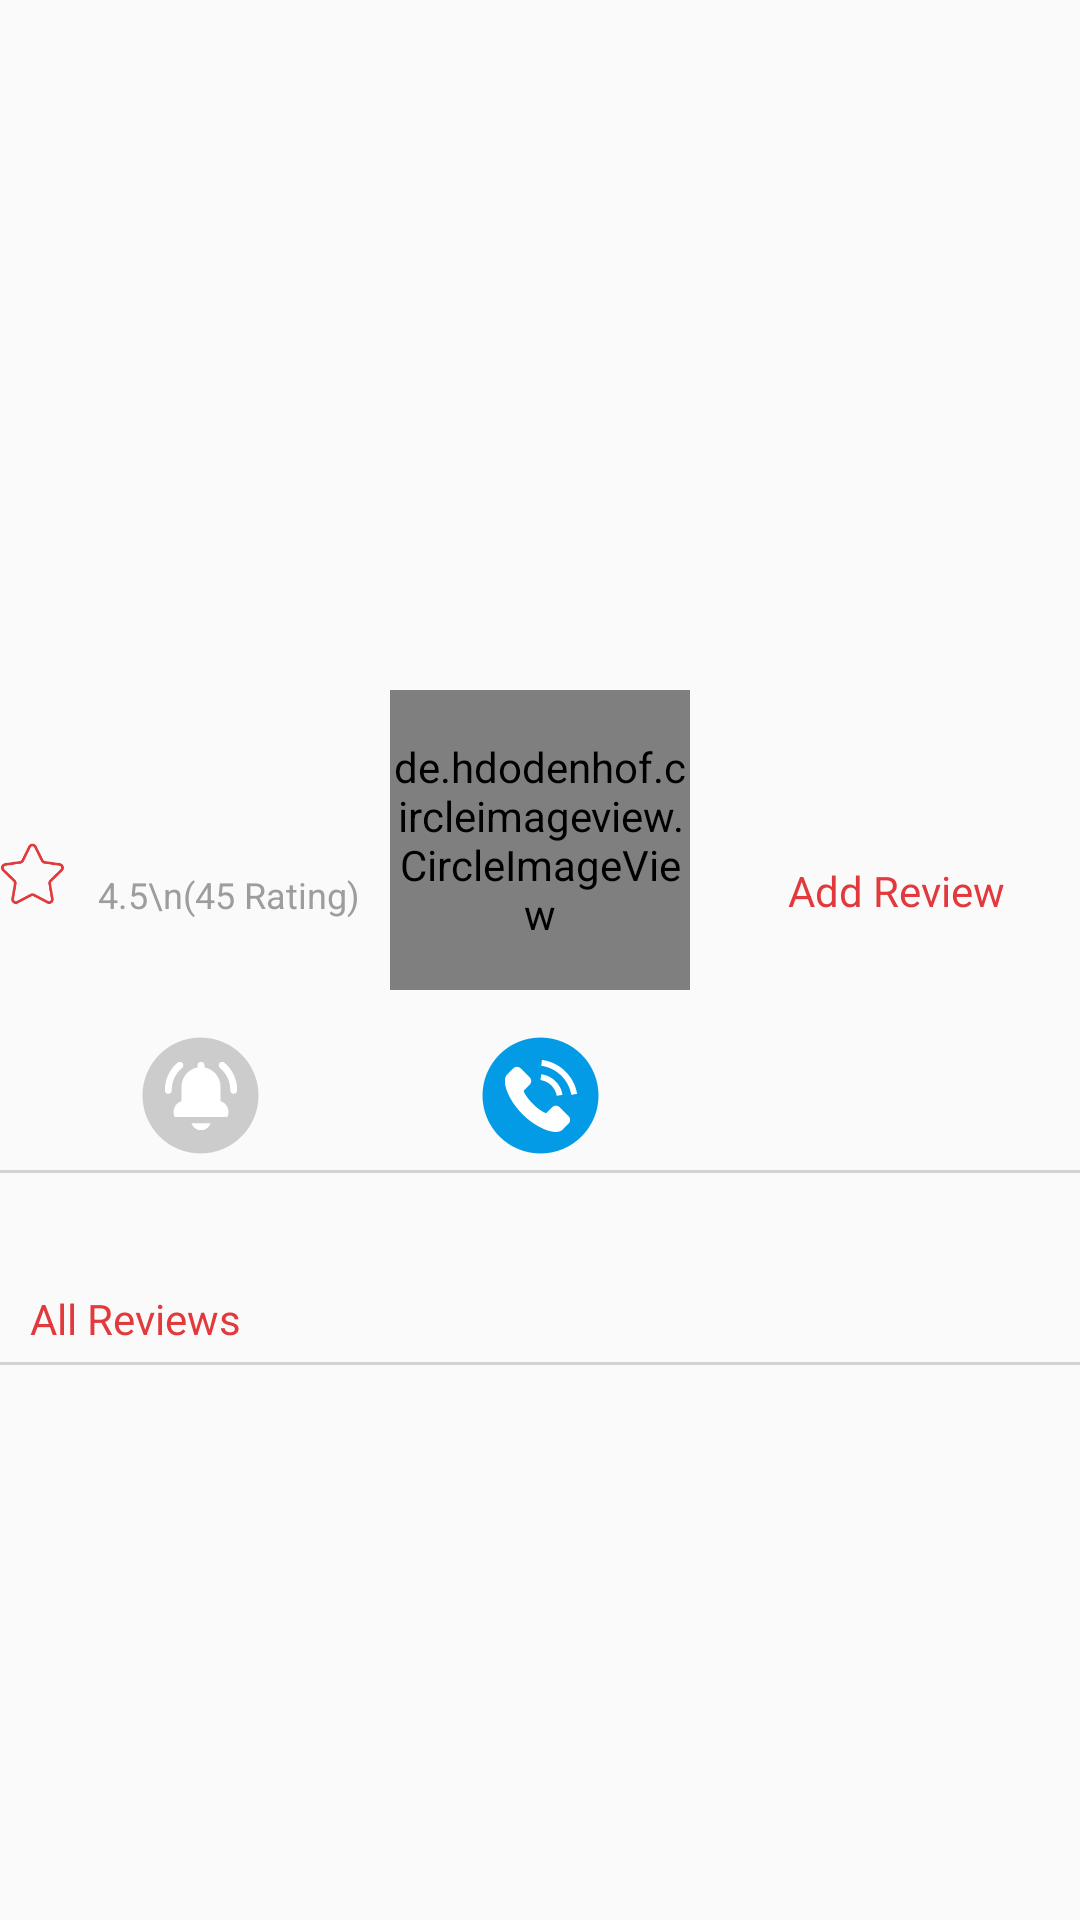

Where to tap for icons on this 1080px x 1920px app screen, as [x,y]:
call: [540,1095]
star: [32,873]
